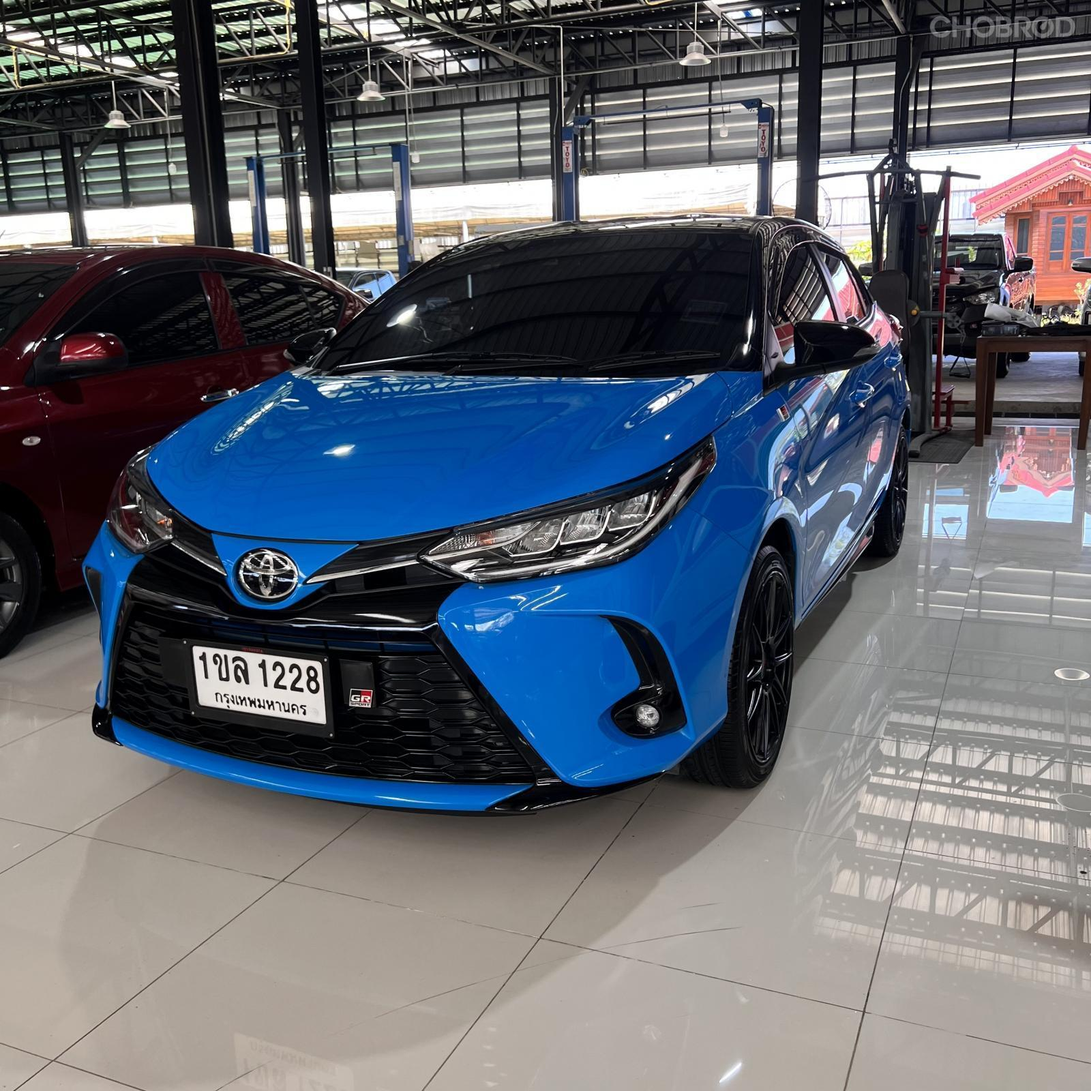license-plate: (163, 624, 399, 753)
